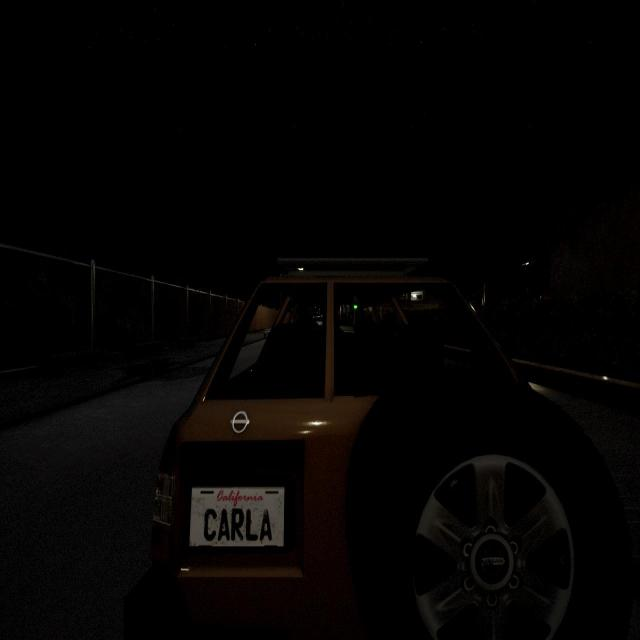Vehicle: (150, 254, 593, 638)
traffic_light: (353, 304, 358, 312)
